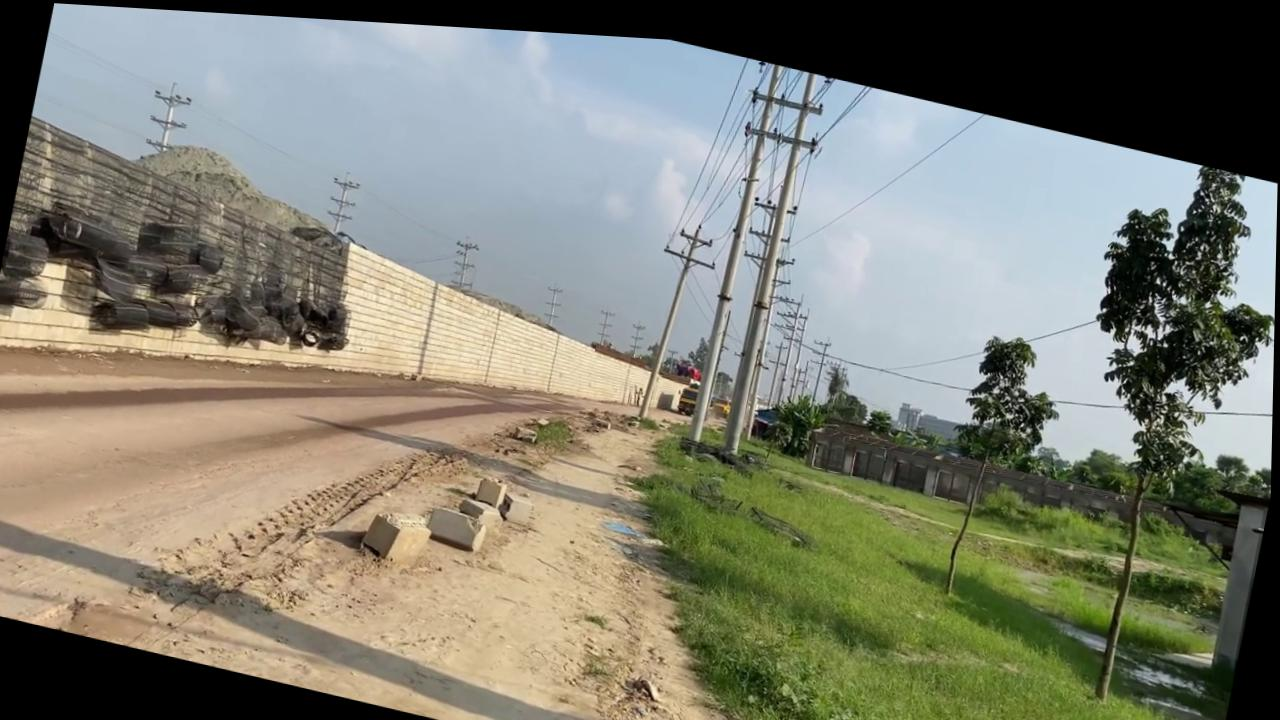Fence: (802, 403, 1241, 552)
Garbage: (0, 181, 362, 379)
Obstacle: (361, 497, 435, 565), (425, 496, 492, 548), (458, 488, 504, 521), (500, 484, 536, 518), (476, 469, 510, 503)
Pole: (720, 56, 821, 451), (685, 48, 783, 439)
Rickshaw: (265, 321, 809, 720)
Sidewalk: (1028, 594, 1239, 720)
Traffic-sign: (1019, 128, 1279, 711), (922, 309, 1073, 600)
Tree: (677, 367, 721, 412), (677, 369, 702, 408), (673, 348, 704, 374)
Upstairs: (0, 108, 713, 498)
